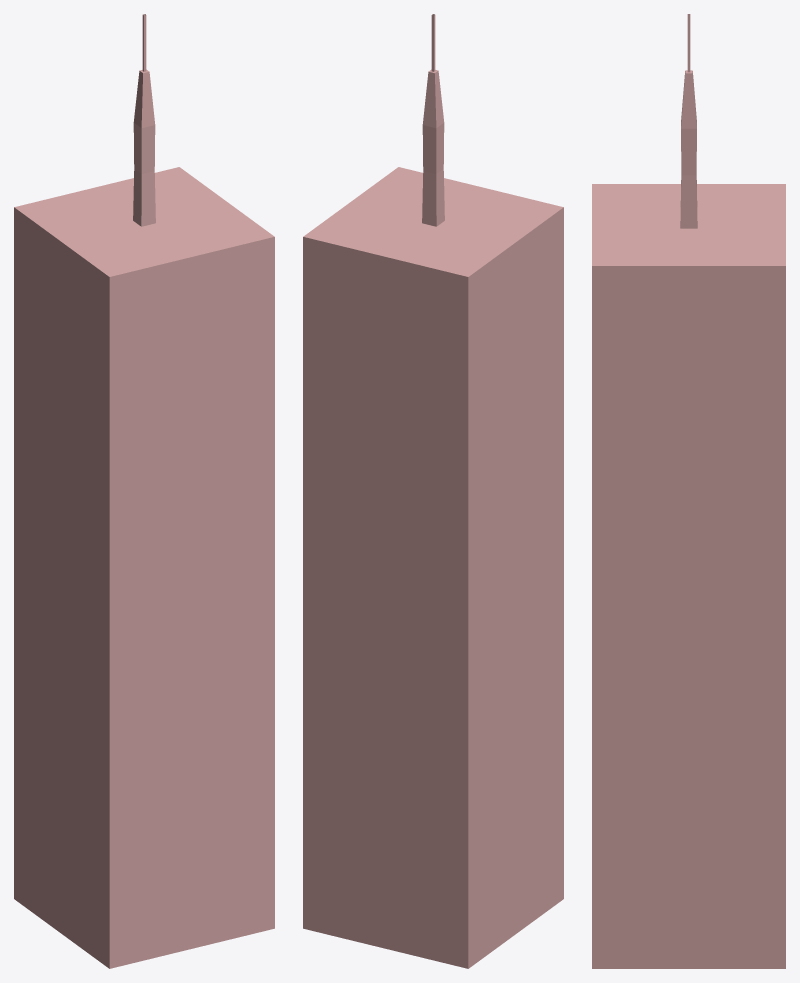
The model's file is Skyscrape.fbx.
The picture shows the model from 3 angles, left to right: view 1: azimuth 30°, elevation 25°; view 2: azimuth 150°, elevation 25°; view 3: azimuth 270°, elevation 25°; orthographic projection.
Visible parts, largest first — view 1: pCube2; view 2: pCube2; view 3: pCube2.
Part boxes in pixels (box(x1,y1,x2,y2)): pCube2: box(14, 14, 274, 968); pCube2: box(303, 14, 563, 968); pCube2: box(592, 14, 785, 968).
Size of the model in its own units: 0.5 by 2.6 by 0.5.
